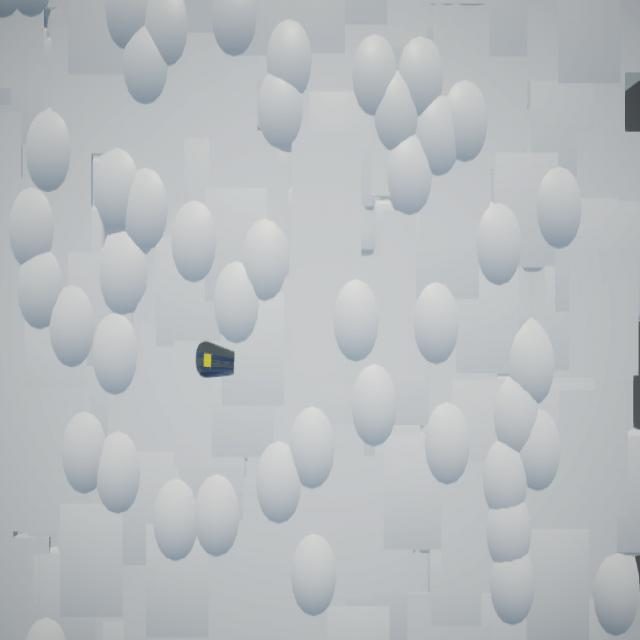handle_folk: (197, 341, 236, 379)
